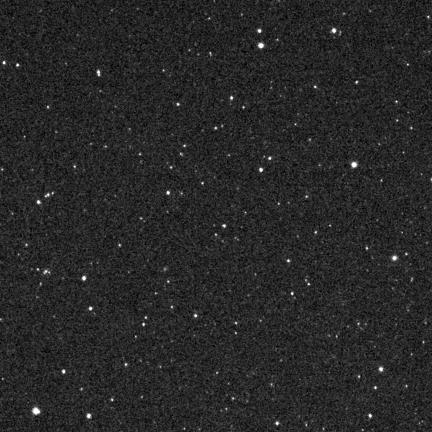blob: (351, 162, 359, 169), (392, 256, 398, 262), (258, 43, 264, 48), (332, 28, 336, 34), (82, 276, 86, 280)
